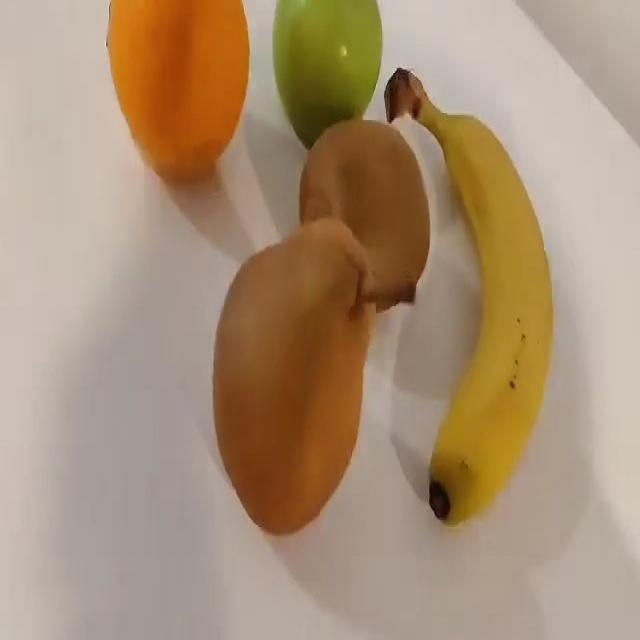Apple: (271, 0, 385, 148)
Banana: (398, 71, 555, 526)
Orange: (103, 0, 252, 186)
